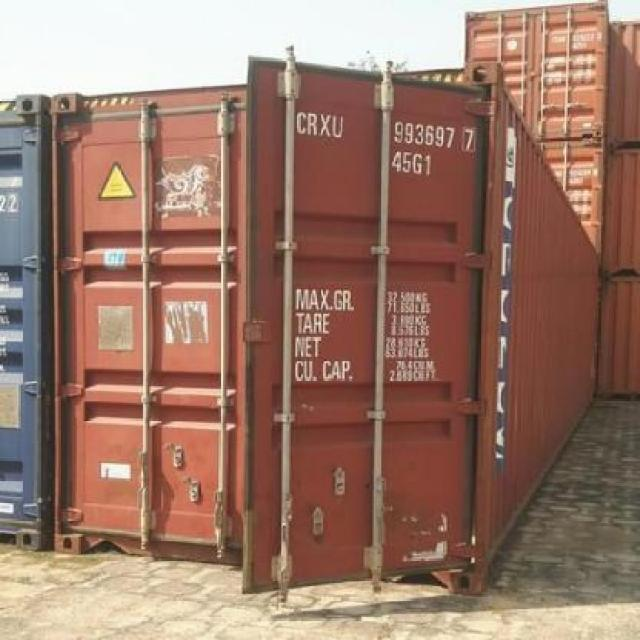ISO: (394, 151, 436, 176)
container_number: (306, 119, 474, 148), (383, 120, 478, 150)
